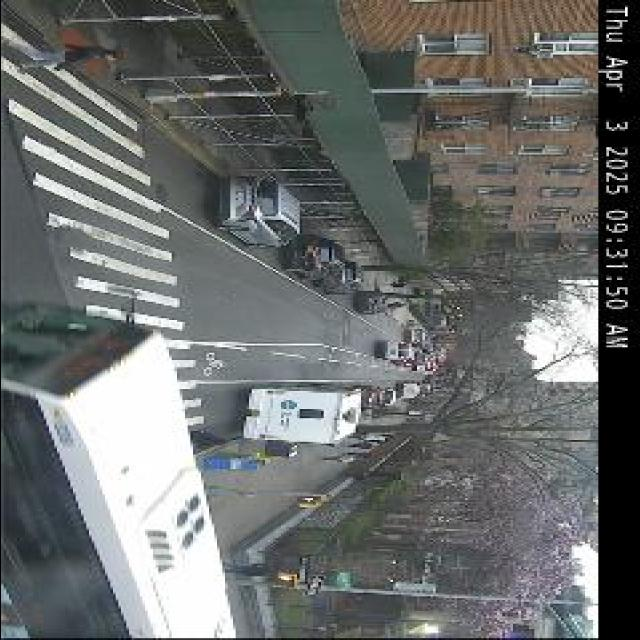open parking: (149, 119, 225, 227), (328, 278, 378, 310), (383, 380, 403, 405)
parkedCars: (139, 100, 409, 310), (188, 378, 432, 451)
